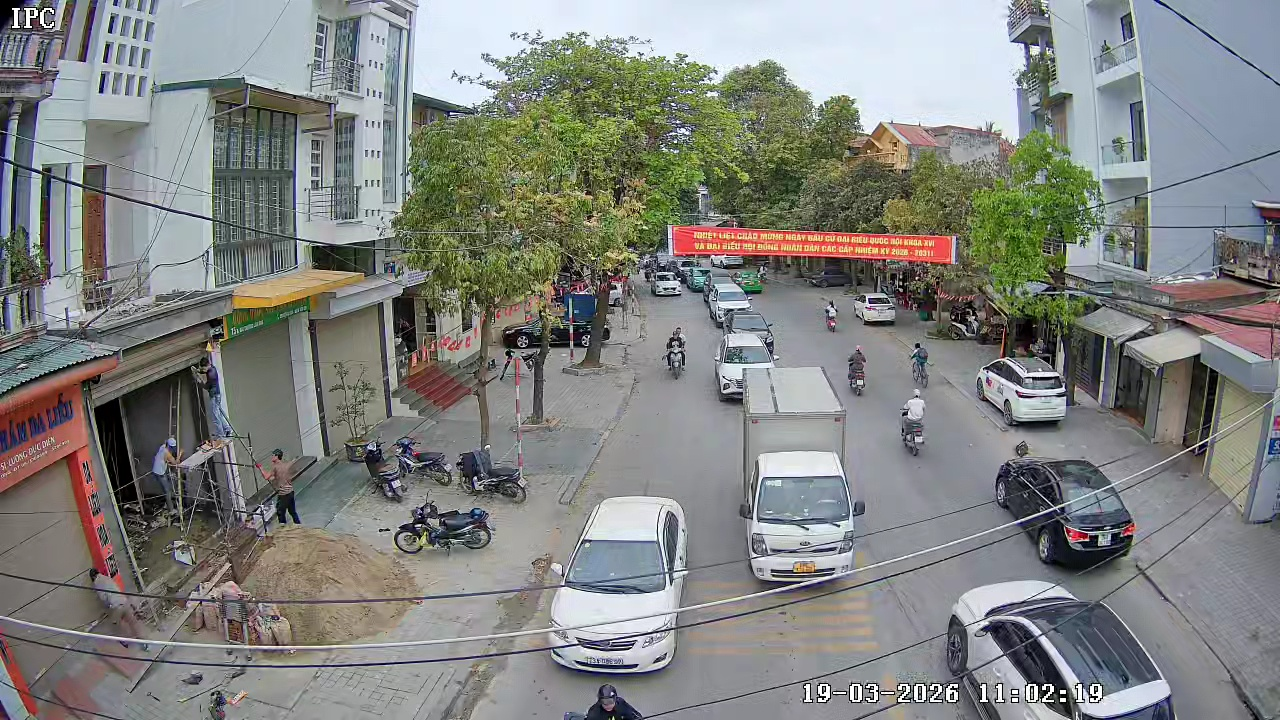car: (940, 577, 1182, 719), (549, 494, 692, 677), (739, 443, 864, 583), (1028, 485, 1137, 569), (976, 354, 1068, 428), (725, 317, 777, 363), (715, 350, 750, 403), (709, 288, 746, 329), (857, 294, 896, 327), (651, 273, 680, 297)
exception: (561, 682, 644, 719)
motorbike: (393, 492, 496, 556), (457, 439, 530, 503), (898, 389, 927, 457), (846, 346, 868, 397), (910, 342, 930, 389), (666, 343, 687, 380), (823, 301, 838, 332)
pedestrian: (259, 463, 303, 528)
truck: (740, 362, 862, 583)
